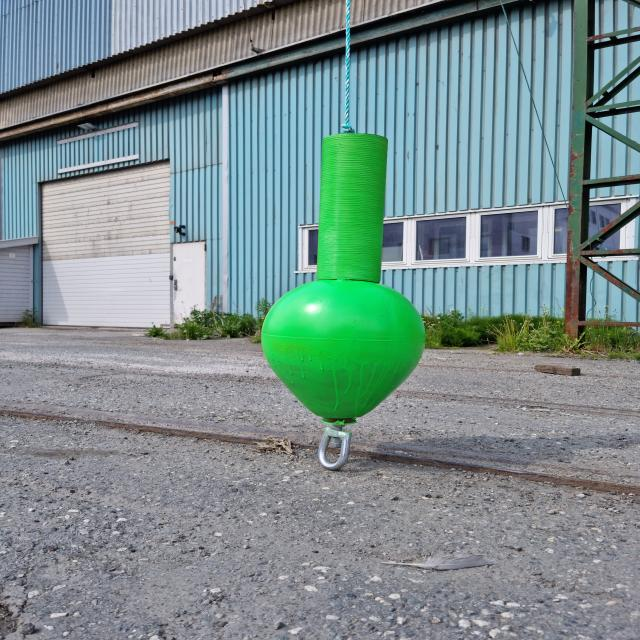green: (261, 134, 428, 422)
